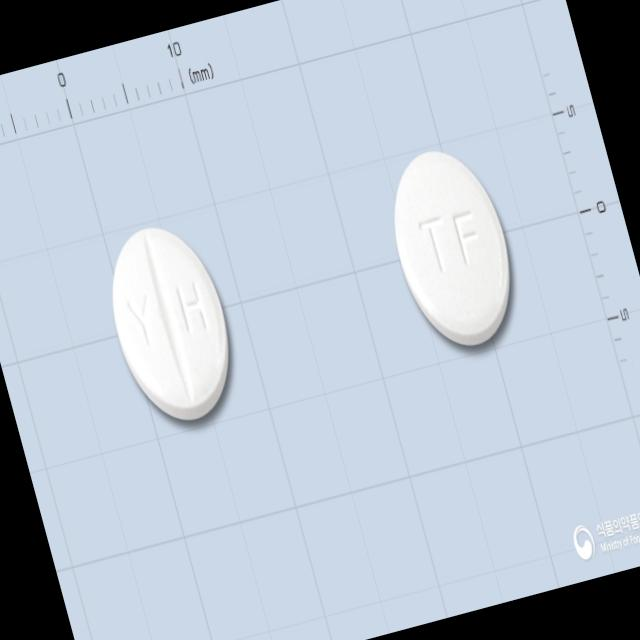Curasil: (374, 136, 532, 360), (91, 212, 249, 434)
